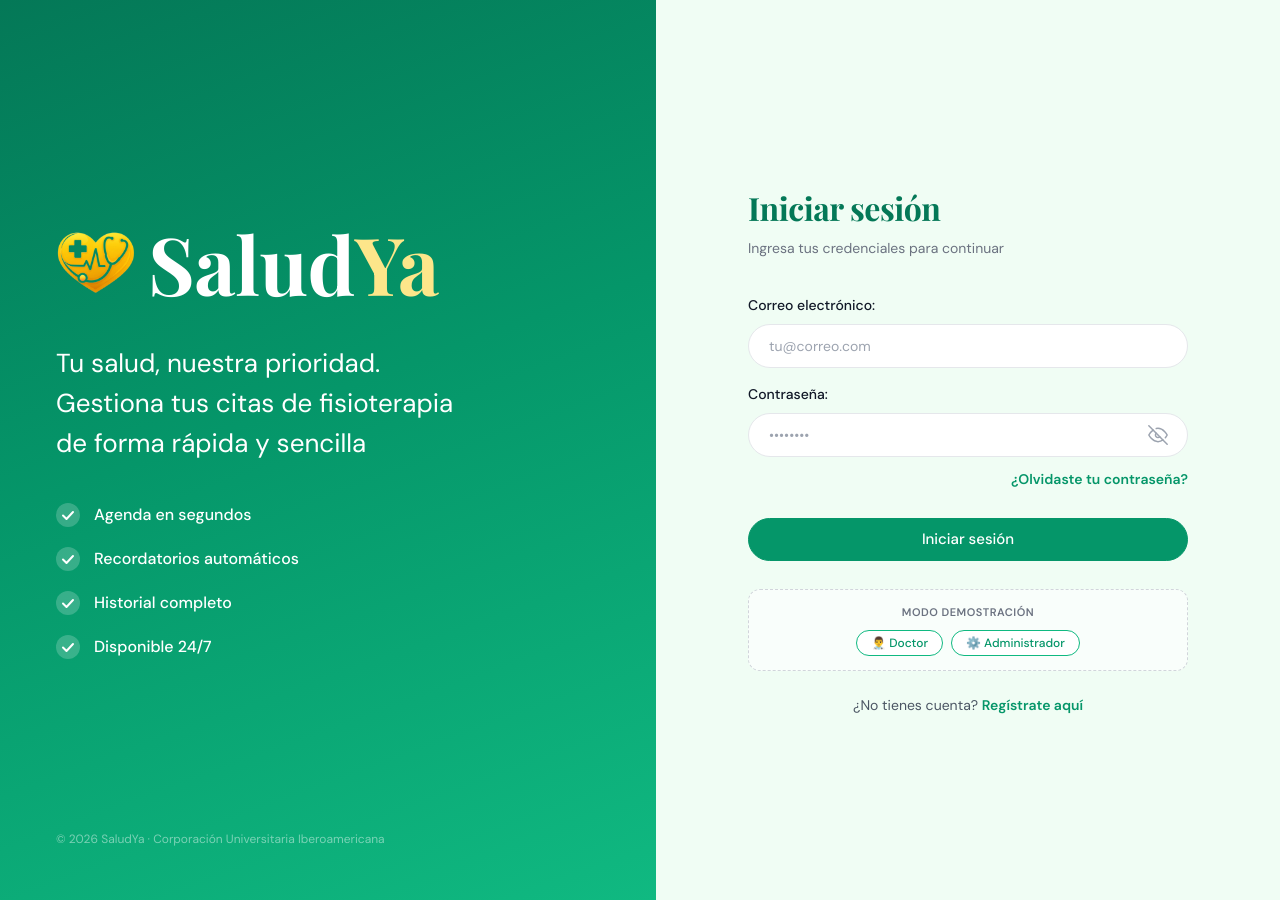
<App /> — Routing › al iniciar sesión como paciente, muestra el dashboard y el Topbar
The image size is (1280, 900).
Step 1. Click the button "Iniciar sesión" → (968, 539), box 748,518 -> 1188,561
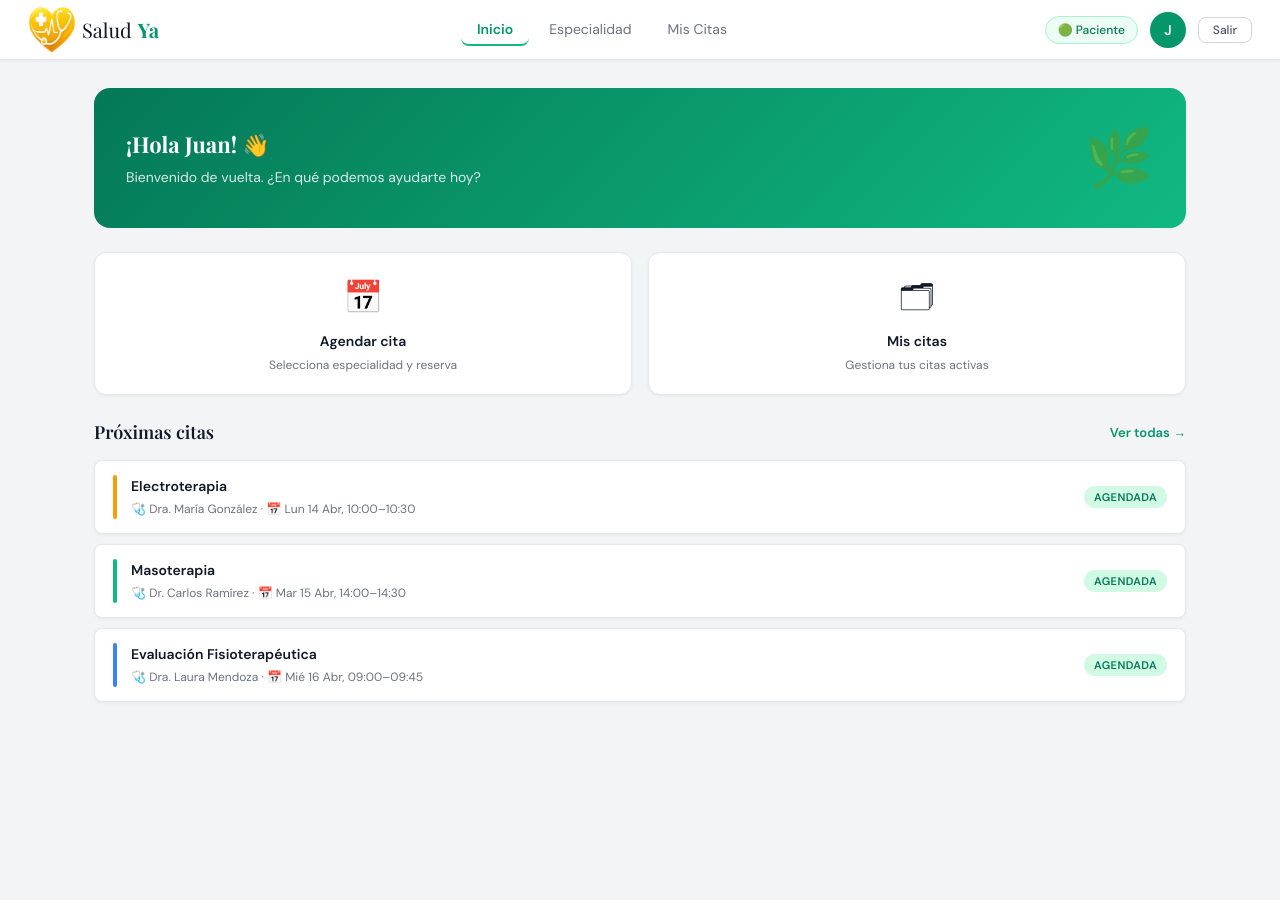
Check: the heading "¡Hola Juan! 👋" is shown, box 126,129 -> 270,159
Check: the navigation bar is shown, box 461,14 -> 743,46
